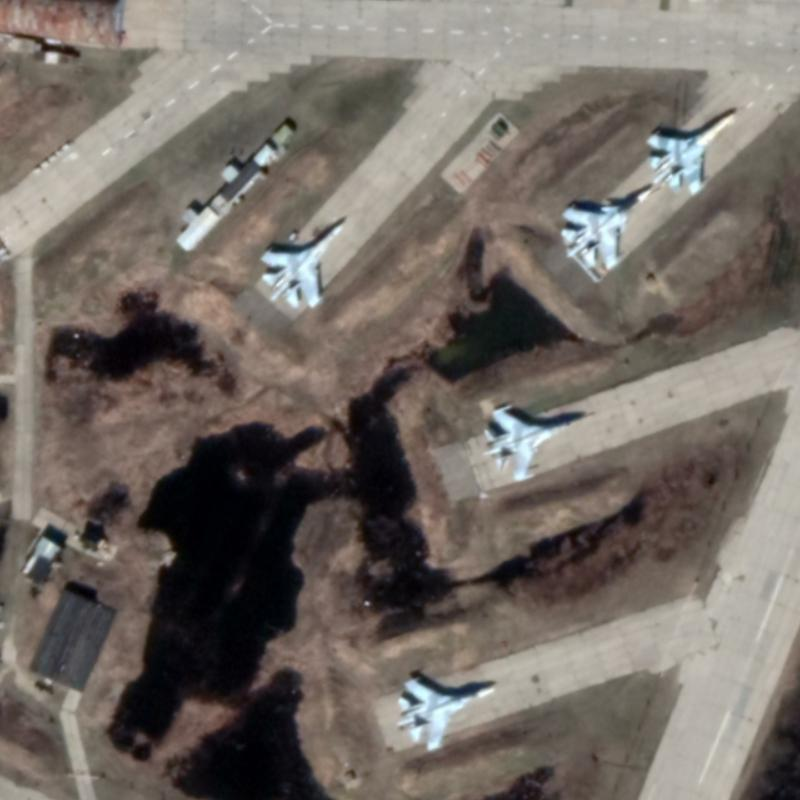A1: (478, 399, 597, 483), (643, 107, 745, 199), (256, 215, 350, 310), (392, 673, 500, 753)
A19: (557, 184, 653, 272)
